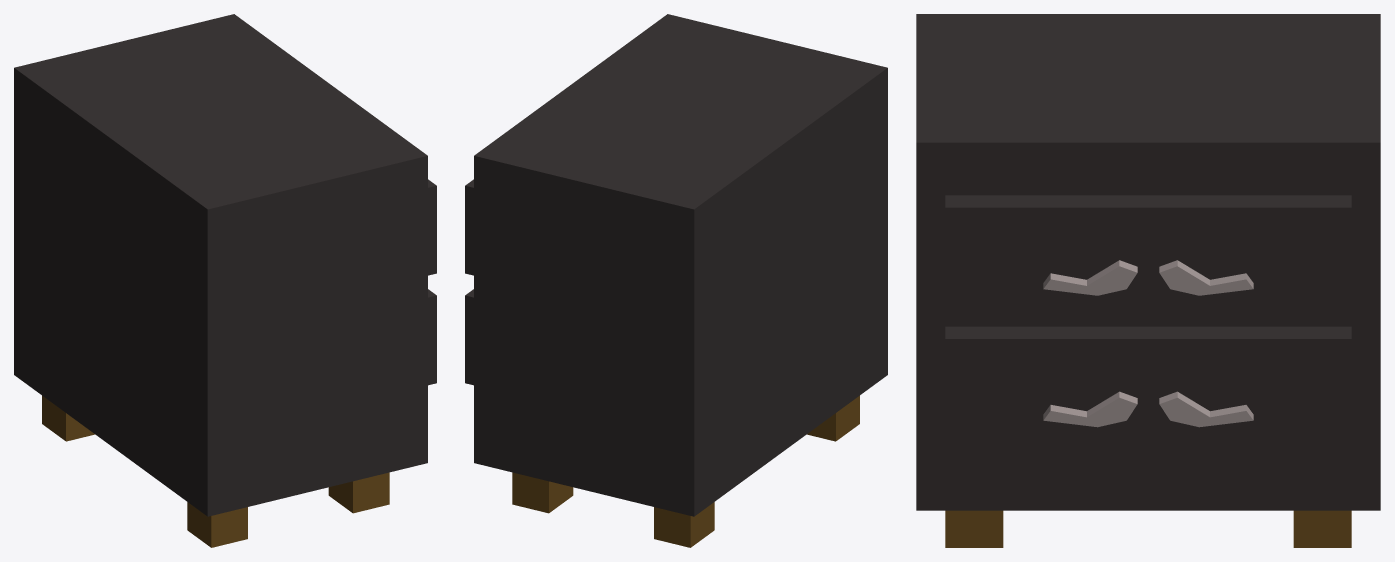
Rendered from obj_drawers_1_0.obj.
The picture shows the model from 3 angles, left to right: view 1: azimuth 30°, elevation 25°; view 2: azimuth 150°, elevation 25°; view 3: azimuth 270°, elevation 25°; orthographic projection. The views are drawn at different scales.
Bounding box in the file's own units: 0.75 × 1 × 1.
